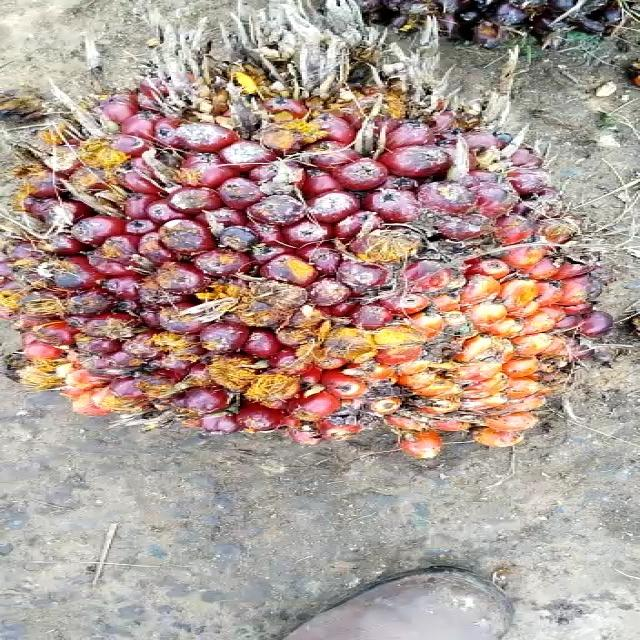palm oil: (0, 17, 640, 467)
